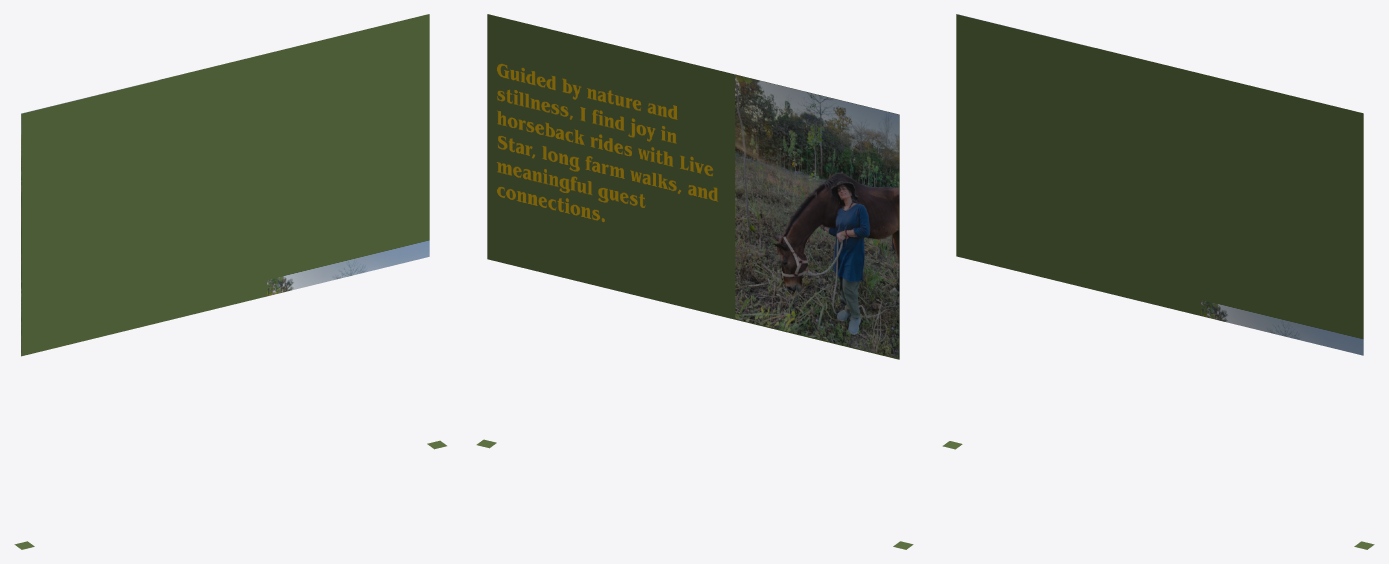
The model's file is slide3.gltf.
The picture shows the model from 3 angles, left to right: view 1: azimuth 30°, elevation 25°; view 2: azimuth 150°, elevation 25°; view 3: azimuth 330°, elevation 25°; orthographic projection.
Parts seen in each view (by area): view 1: slide3; view 2: slide3; view 3: slide3.
Part boxes in pixels (left/top/right/bottom): slide3: left=14, top=14, right=446, bottom=549; slide3: left=476, top=14, right=913, bottom=549; slide3: left=942, top=14, right=1374, bottom=549.
Size of the model in its own units: 2.4 by 2.31 by 0.0731.
Materials: 1 (1 with a texture image).
